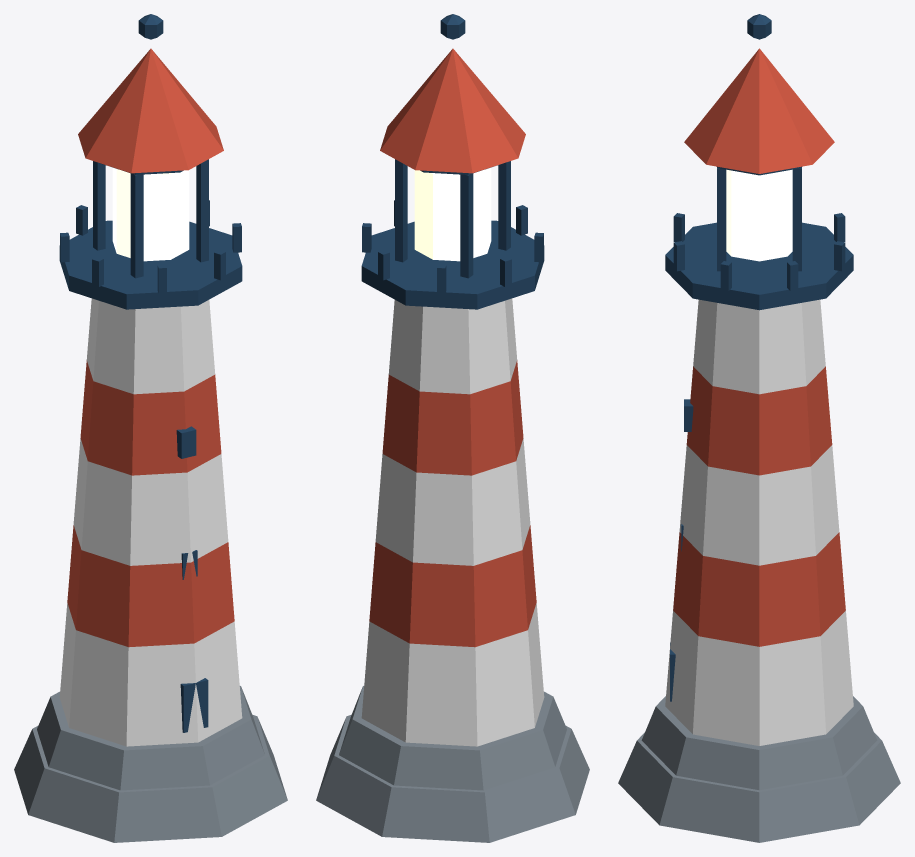
File: lighthouse.glb
3 views of the same model, side by side, from view 1: azimuth 30°, elevation 25°; view 2: azimuth 150°, elevation 25°; view 3: azimuth 270°, elevation 25° (orthographic).
Parts seen in each view (by area): view 1: Body, Lamp; view 2: Body, Lamp; view 3: Body, Lamp.
Boxes of the visible parts, left/top/right/bottom form: Body: left=14, top=14, right=287, bottom=842; Lamp: left=112, top=167, right=189, bottom=261; Body: left=316, top=14, right=589, bottom=842; Lamp: left=414, top=167, right=491, bottom=261; Body: left=618, top=14, right=900, bottom=842; Lamp: left=726, top=169, right=792, bottom=261.
Size of the model in its own units: 3 by 9 by 3.
